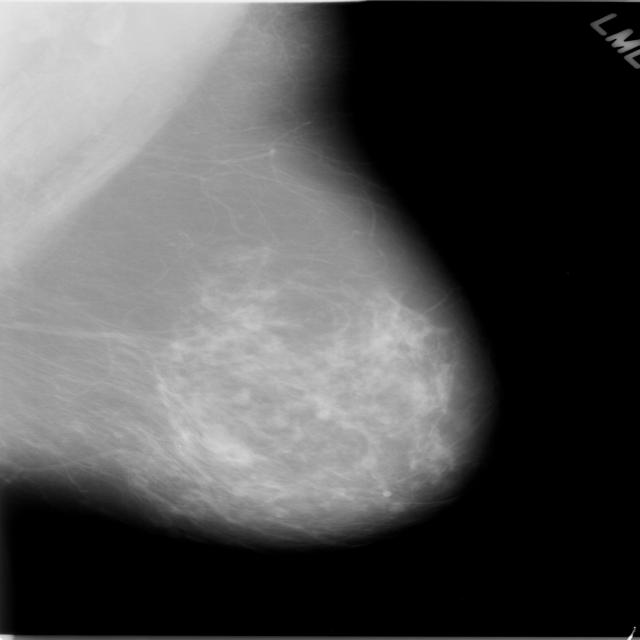normal: (0, 0, 492, 559)
